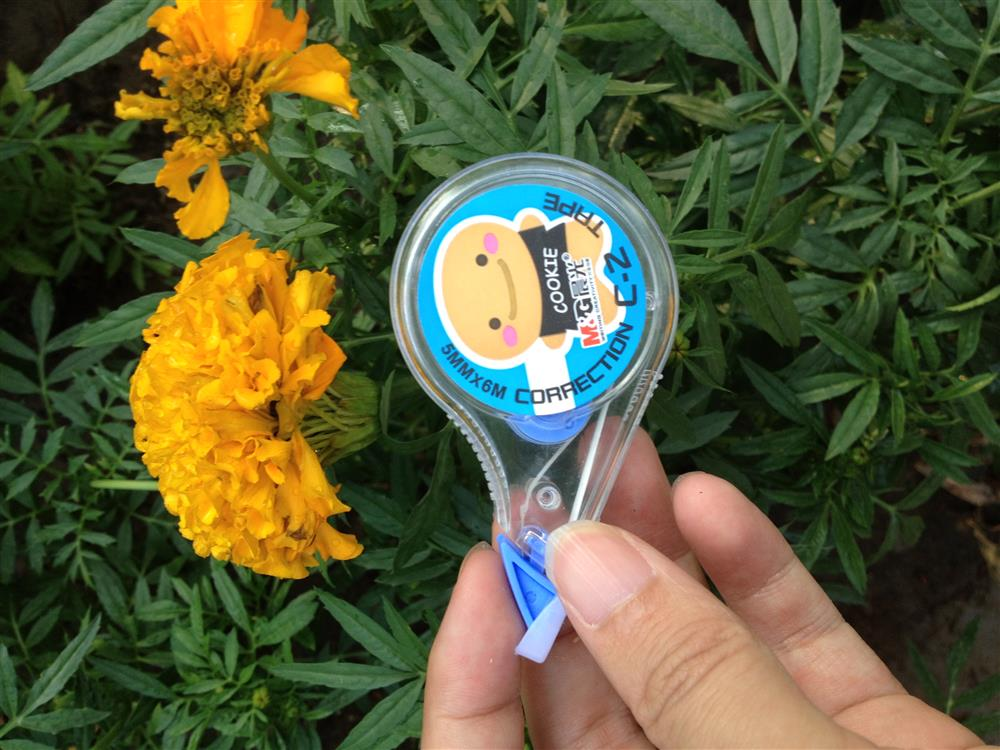correction_tape: (394, 151, 684, 664)
